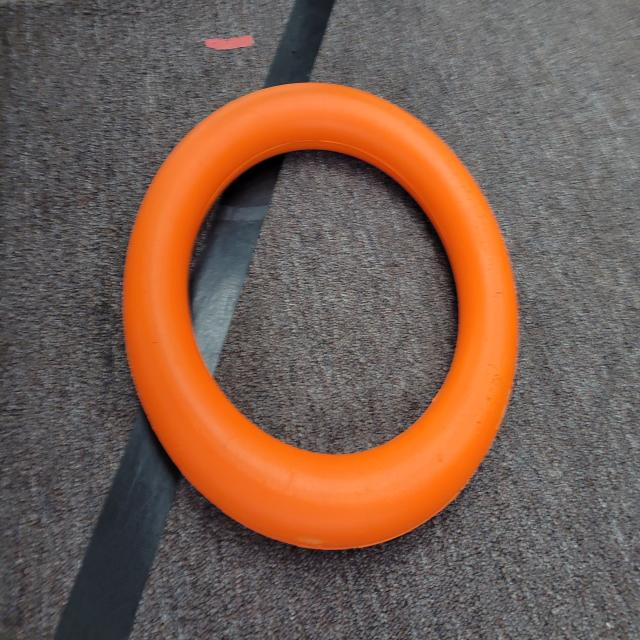note: (121, 75, 523, 566), (119, 78, 492, 434)
